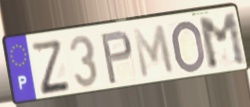3: (68, 33, 101, 91)
M: (196, 11, 249, 73), (130, 22, 177, 81)
O: (171, 19, 207, 75)
P: (99, 28, 134, 86)
Z: (29, 38, 73, 97)
